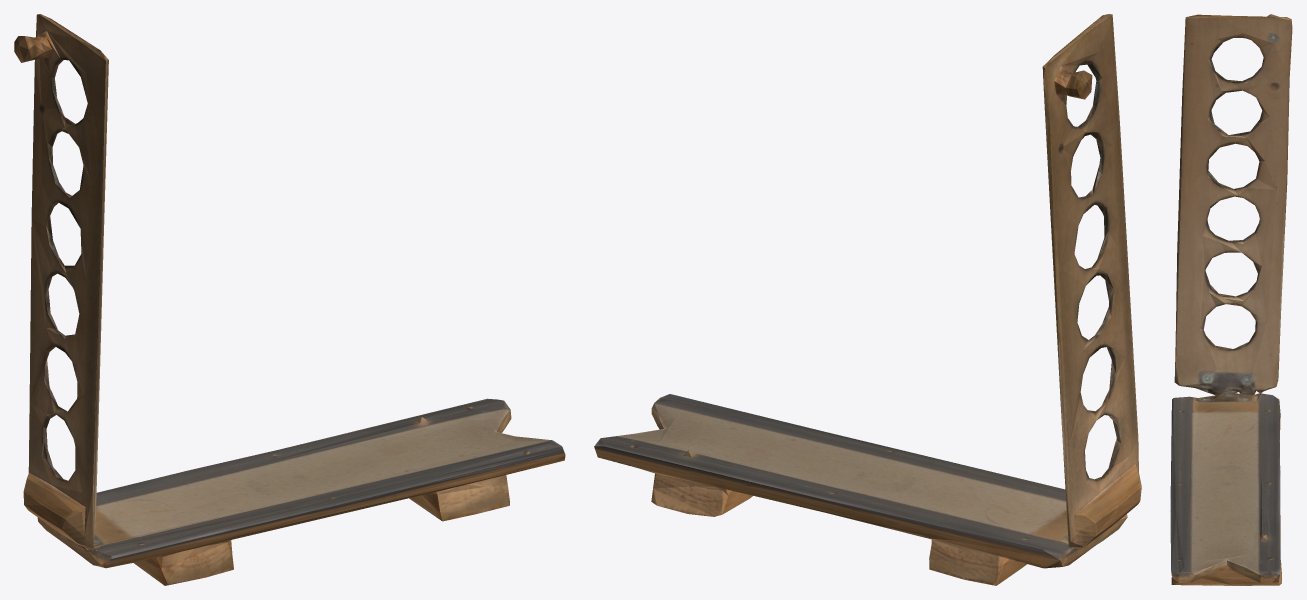
3 renders of one model, left to right at view 1: azimuth 30°, elevation 25°; view 2: azimuth 150°, elevation 25°; view 3: azimuth 270°, elevation 25°, orthographic. The views are drawn at different scales.
Parts seen in each view (by area): view 1: Pfingstrosen Schablone_0.8k_512; view 2: Pfingstrosen Schablone_0.8k_512; view 3: Pfingstrosen Schablone_0.8k_512.
Part boxes in pixels (box(x1,y1,x2,y2)): Pfingstrosen Schablone_0.8k_512: box(14, 14, 565, 585); Pfingstrosen Schablone_0.8k_512: box(594, 14, 1141, 585); Pfingstrosen Schablone_0.8k_512: box(1170, 14, 1292, 585).
Bounding box in the file's own units: 0.2992 × 0.3152 × 0.0826.
Materials: 1 (1 with a texture image).
